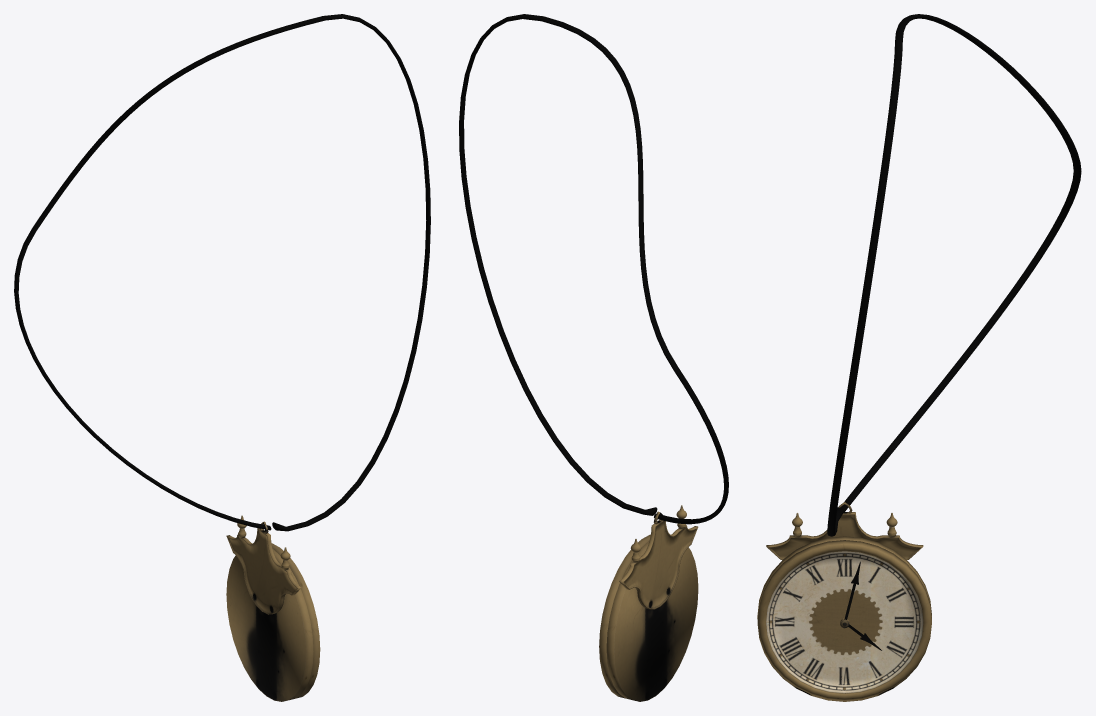
File: necklace2.glb
The picture shows the model from 3 angles, left to right: view 1: azimuth 30°, elevation 25°; view 2: azimuth 150°, elevation 25°; view 3: azimuth 270°, elevation 25°; orthographic projection. The views are drawn at different scales.
Visible parts, largest first — view 1: baseclock, rope.002, clockdoor; view 2: baseclock, rope.002, clockdoor; view 3: clockdoor, rope.002, baseclock.
Boxes of the visible parts, x1=… form: baseclock: x1=226, y1=515, x2=313, y2=701; rope.002: x1=14, y1=14, x2=430, y2=531; clockdoor: x1=271, y1=543, x2=320, y2=698; baseclock: x1=606, y1=505, x2=698, y2=701; rope.002: x1=459, y1=14, x2=728, y2=524; clockdoor: x1=599, y1=534, x2=650, y2=698; clockdoor: x1=757, y1=540, x2=931, y2=701; rope.002: x1=827, y1=14, x2=1081, y2=536; baseclock: x1=757, y1=502, x2=931, y2=618.
Bounding box in the file's own units: 0.2663 × 0.5014 × 0.2098.
4 materials, 2 textured.
